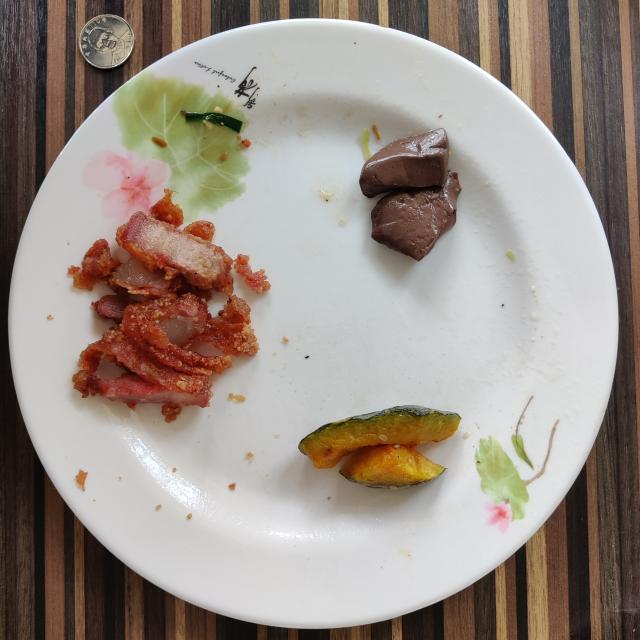coin: (79, 15, 135, 69)
pig blood curd: (360, 129, 461, 261)
pumpkin: (299, 405, 461, 489)
red grilled pork: (69, 190, 270, 421)
